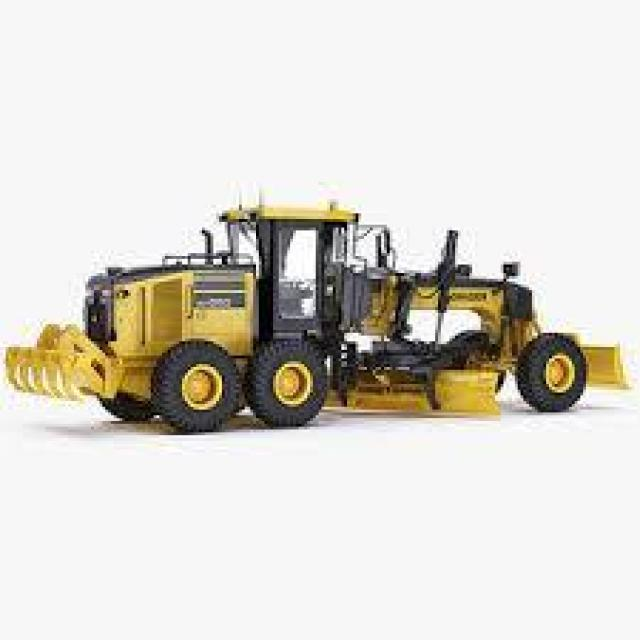Grader: (20, 176, 629, 469)
